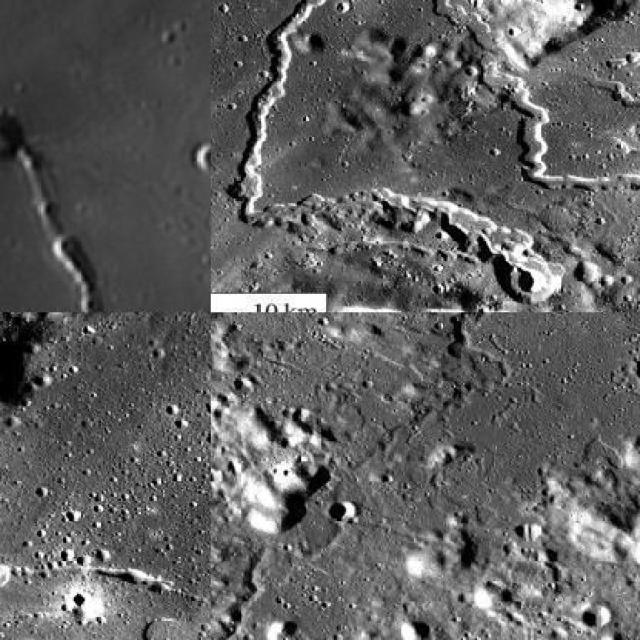rille: (223, 0, 563, 305), (211, 312, 520, 638), (0, 0, 185, 311), (421, 0, 638, 198)
